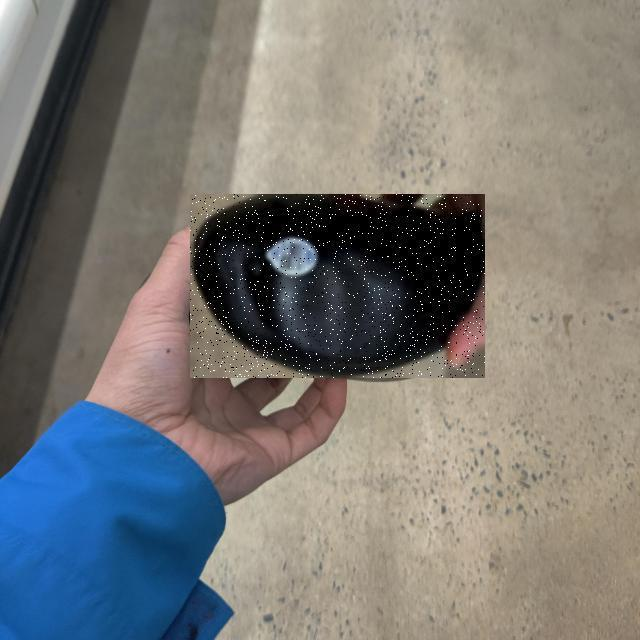Egg Plant: (190, 194, 485, 378)
